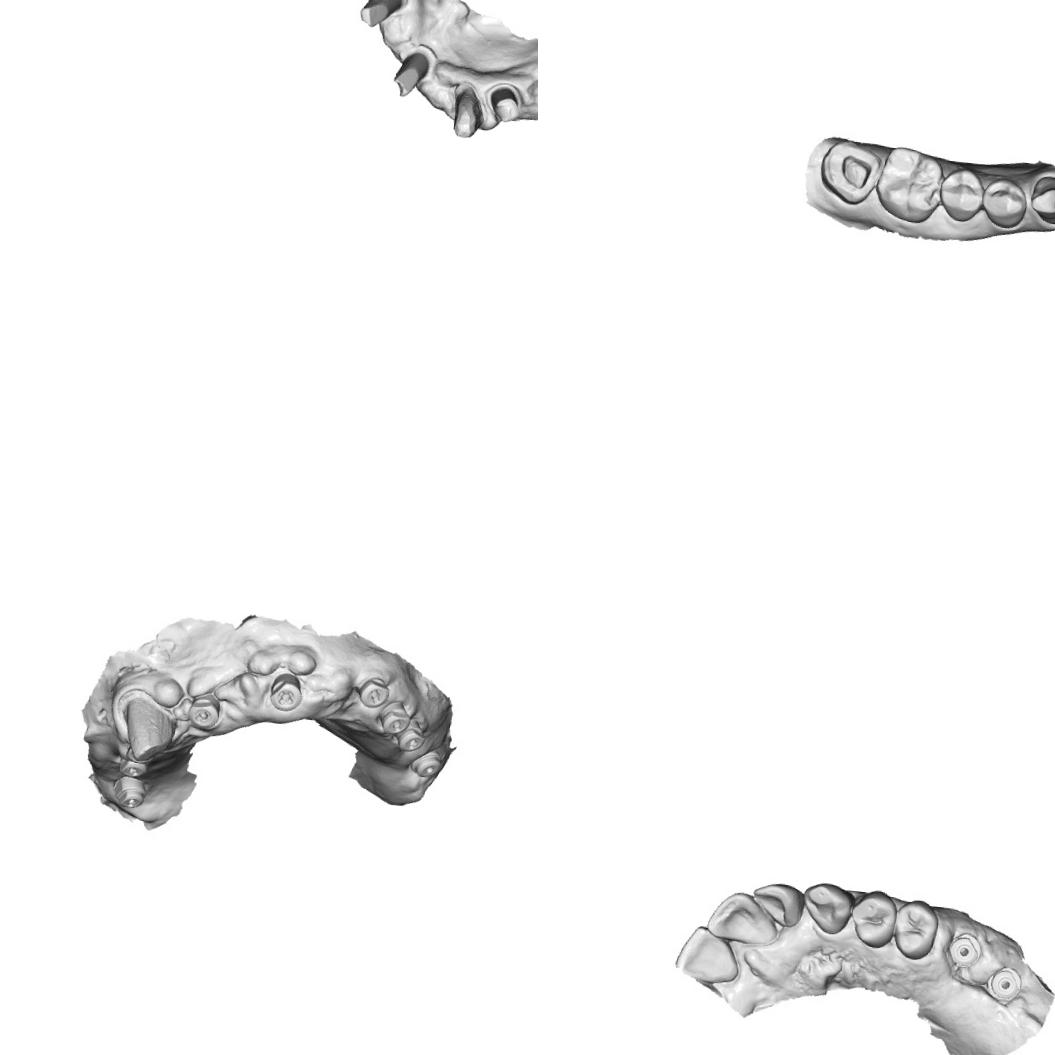abutment: (389, 47, 434, 102), (482, 79, 530, 129), (355, 0, 407, 31)
canine: (799, 880, 857, 938), (1027, 174, 1055, 228)
crown: (111, 686, 182, 766), (446, 87, 489, 143)
implant: (985, 964, 1024, 1006), (946, 930, 984, 970), (410, 748, 446, 780)
implant_minus: (184, 690, 224, 732), (374, 699, 413, 738), (109, 773, 149, 811), (355, 673, 392, 711), (392, 716, 429, 754)
implant_plus: (266, 670, 307, 716)
incisor: (672, 922, 744, 988), (705, 888, 782, 948), (750, 879, 806, 930)
molar: (872, 144, 949, 226), (814, 134, 885, 207)
premolar: (889, 895, 941, 962), (848, 887, 899, 951), (934, 165, 988, 225), (978, 175, 1030, 231)
